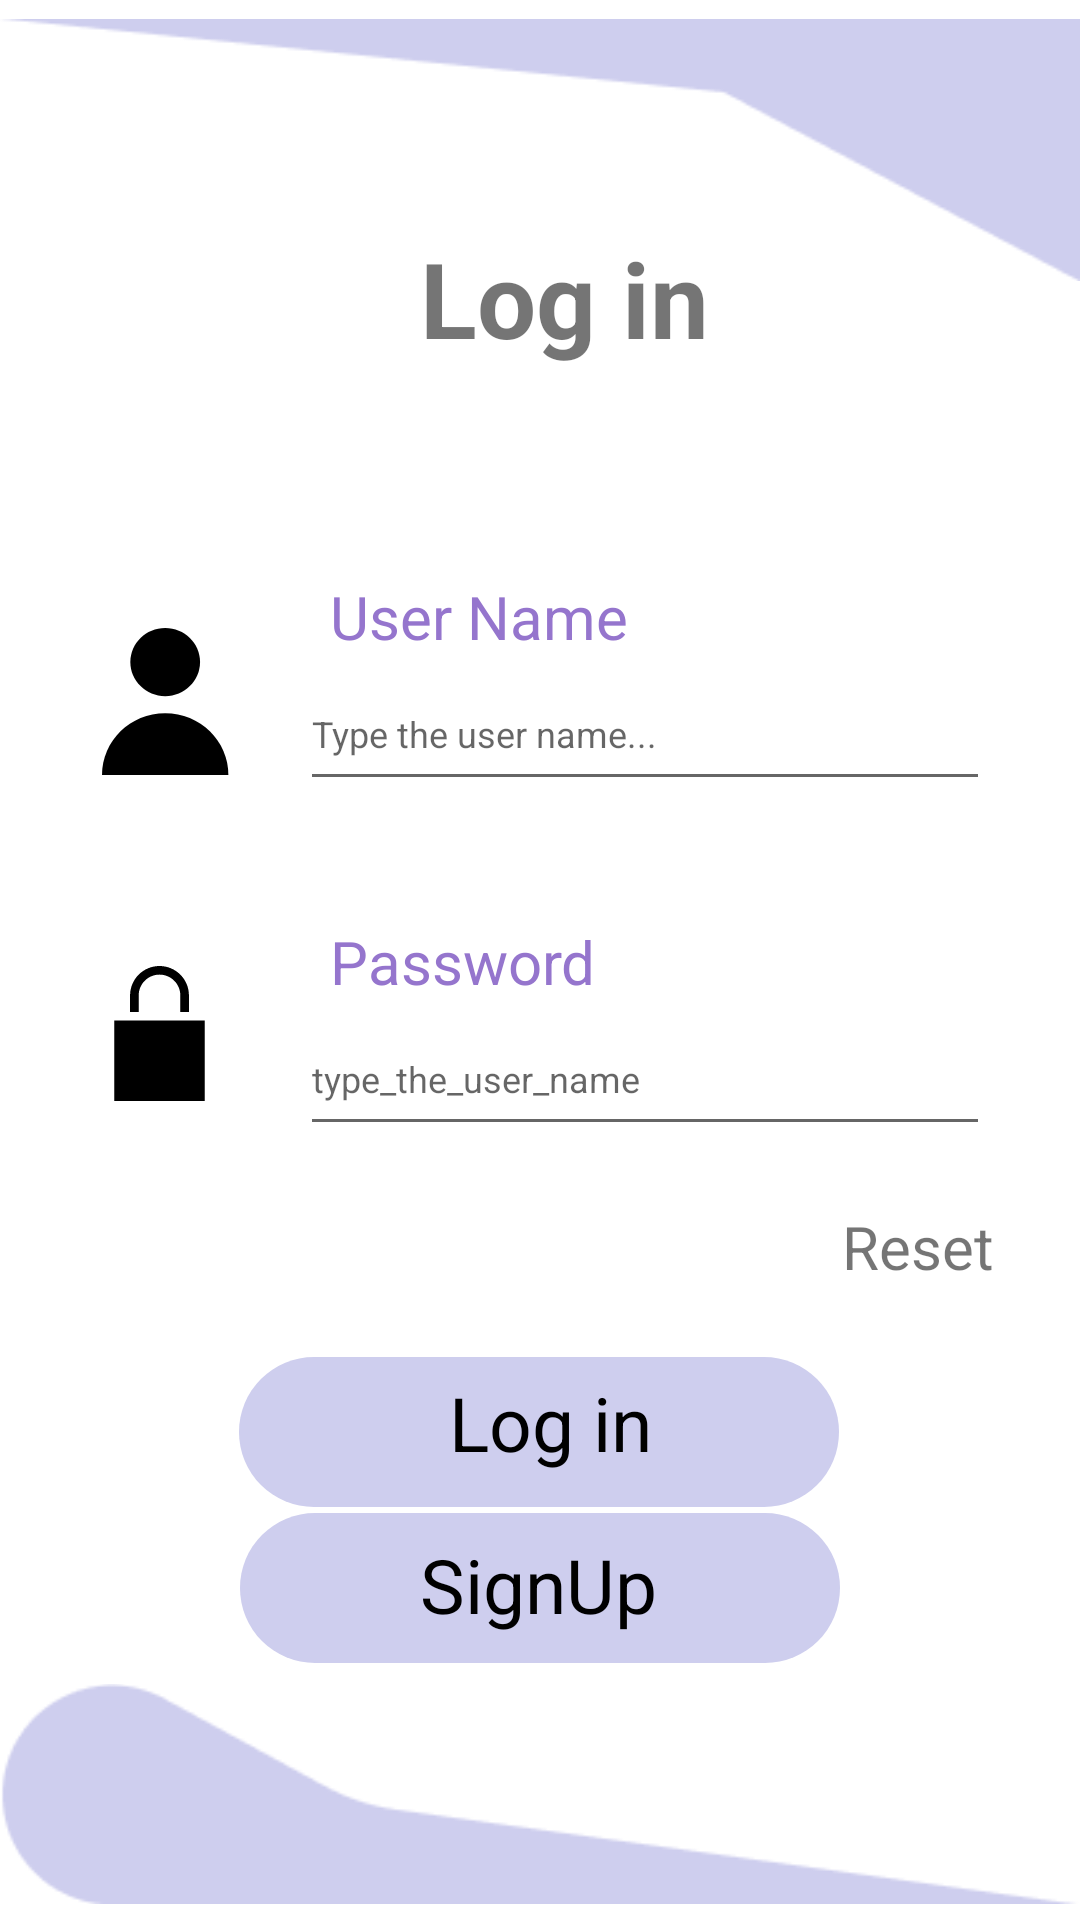

Icon bounding boxes for this 1080 × 1920 phone screenshot, format (x1, y1, x2, y2):
lock: (114, 966, 205, 1101)
